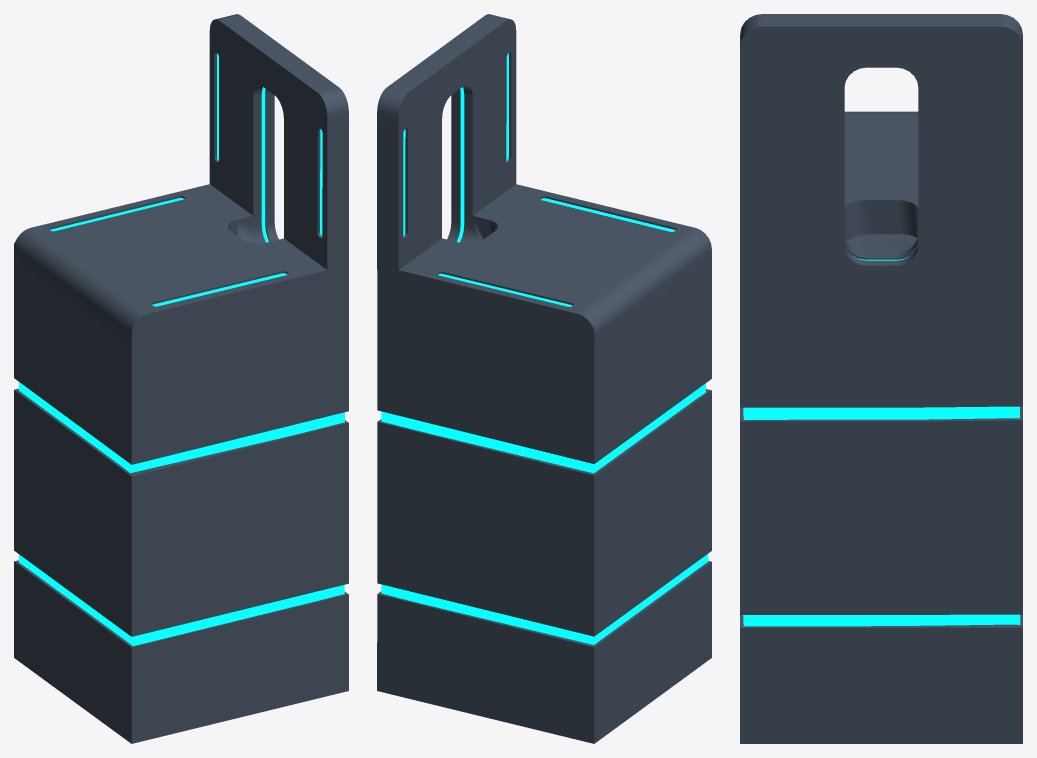
The model's file is Nivel_2-Modulo1.fbx.
3 views of the same model, side by side, from view 1: azimuth 30°, elevation 25°; view 2: azimuth 150°, elevation 25°; view 3: azimuth 270°, elevation 25° (orthographic). The views are drawn at different scales.
Visible parts, largest first — view 1: Part1_1, Part1_2; view 2: Part1_1, Part1_2; view 3: Part1_1, Part1_2.
Part boxes in pixels (left/top/right/bottom): Part1_1: left=14, top=14, right=348, bottom=743; Part1_2: left=19, top=53, right=344, bottom=646; Part1_1: left=377, top=14, right=711, bottom=743; Part1_2: left=381, top=53, right=708, bottom=644; Part1_1: left=740, top=14, right=1022, bottom=743; Part1_2: left=743, top=256, right=1020, bottom=626.
Bounding box in the file's own units: 8 × 21 × 7.5.
